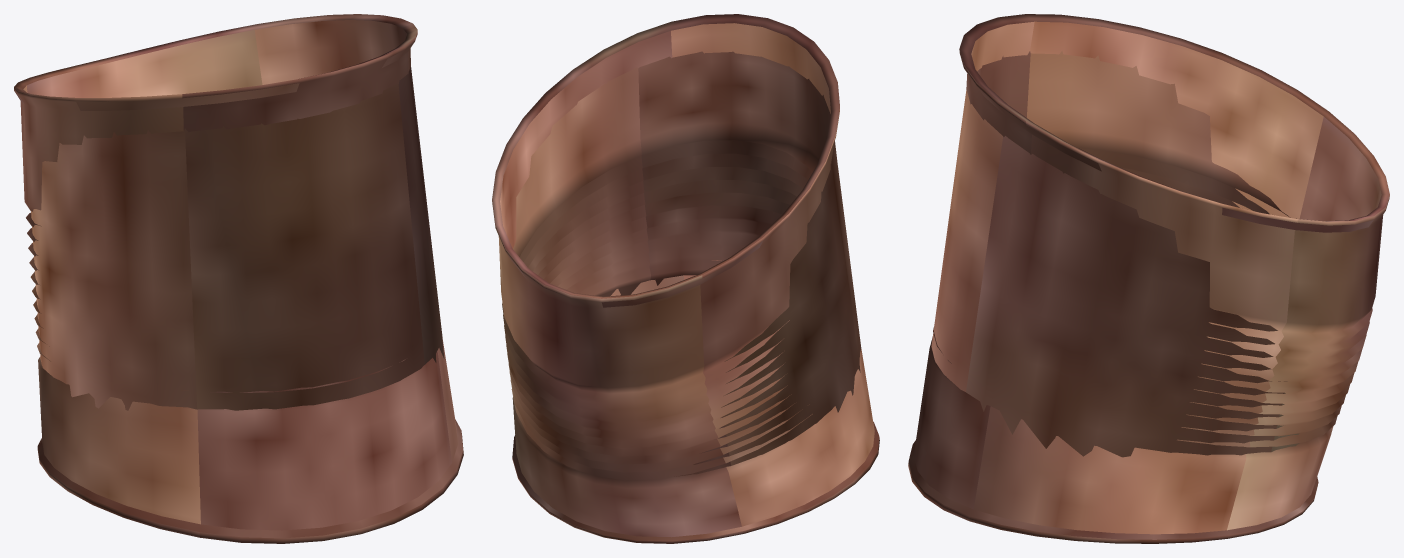
File: Trash_TinCanCrushedSlightly.fbx
The picture shows the model from 3 angles, left to right: view 1: azimuth 30°, elevation 25°; view 2: azimuth 150°, elevation 25°; view 3: azimuth 270°, elevation 25°; orthographic projection. The views are drawn at different scales.
Visible parts, largest first — view 1: Rusty CAn.003; view 2: Rusty CAn.003; view 3: Rusty CAn.003.
Boxes of the visible parts, x1,y1,x2,y2 form: Rusty CAn.003: (14,14,463,543); Rusty CAn.003: (492,14,879,543); Rusty CAn.003: (908,14,1389,543).
Bounding box in the file's own units: 194 × 233 × 233.
